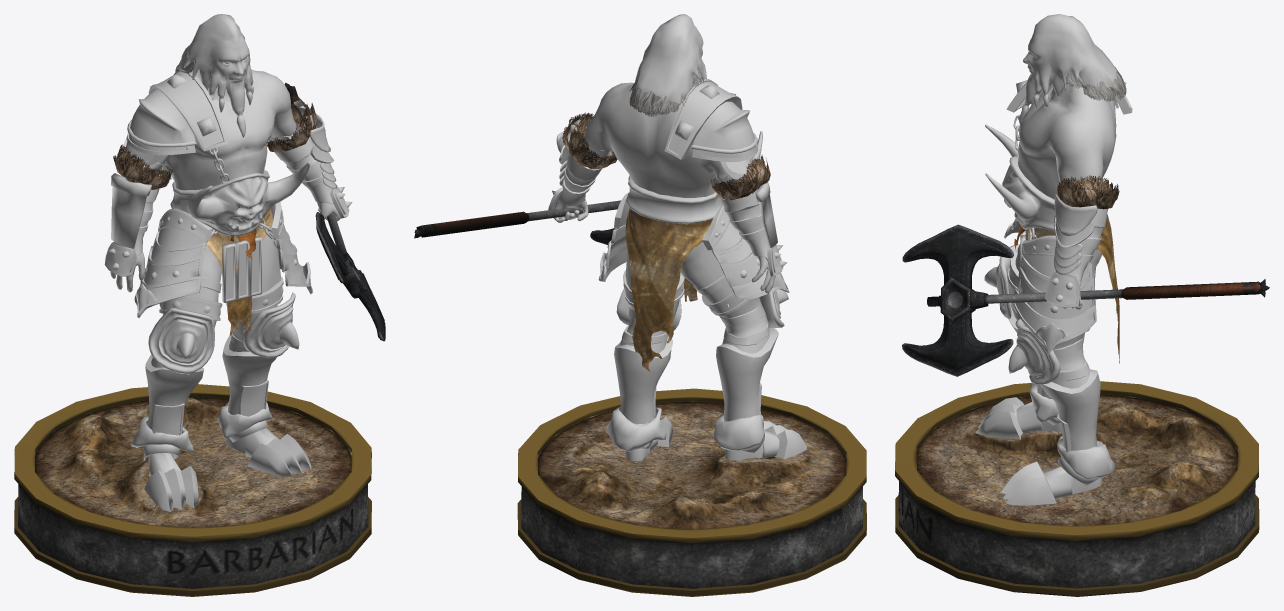
Rendered from barbarian-diablo-3.fbx.
3 views of the same model, side by side, from view 1: azimuth 30°, elevation 25°; view 2: azimuth 150°, elevation 25°; view 3: azimuth 270°, elevation 25° (orthographic). The views are drawn at different scales.
Visible parts, largest first — view 1: 16, 60, 2, 30, 45; view 2: 60, 16, 45, 30, 2; view 3: 60, 16, 2, 30, 45.
Part boxes in pixels (box(x1,y1,x2,y2)): 16: box(104, 14, 352, 511); 60: box(14, 384, 371, 596); 2: box(284, 82, 385, 341); 30: box(113, 59, 317, 189); 45: box(206, 208, 272, 335); 60: box(517, 388, 866, 596); 16: box(548, 14, 806, 461); 45: box(625, 208, 712, 371); 30: box(562, 69, 770, 200); 2: box(414, 178, 628, 244); 60: box(895, 381, 1259, 596); 16: box(975, 14, 1132, 505); 2: box(902, 224, 1269, 376); 30: box(1057, 67, 1126, 209); 45: box(1014, 214, 1119, 363).
Bounding box in the file's own units: 541 × 748 × 493.
